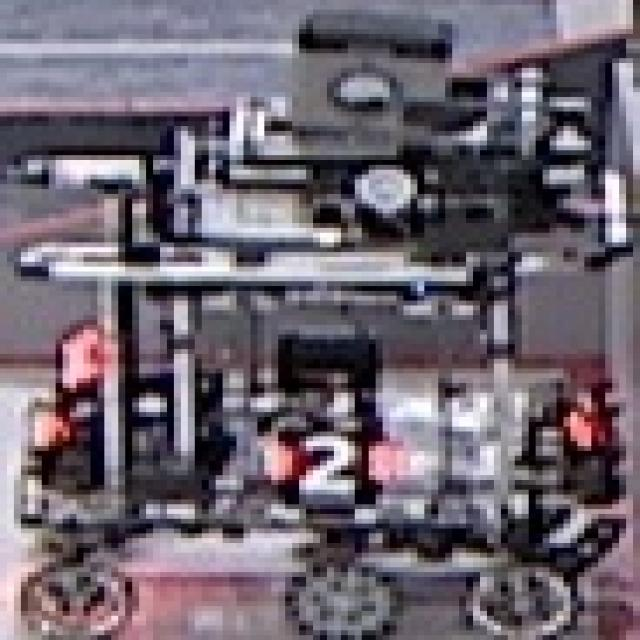R2: (258, 432, 390, 499)
